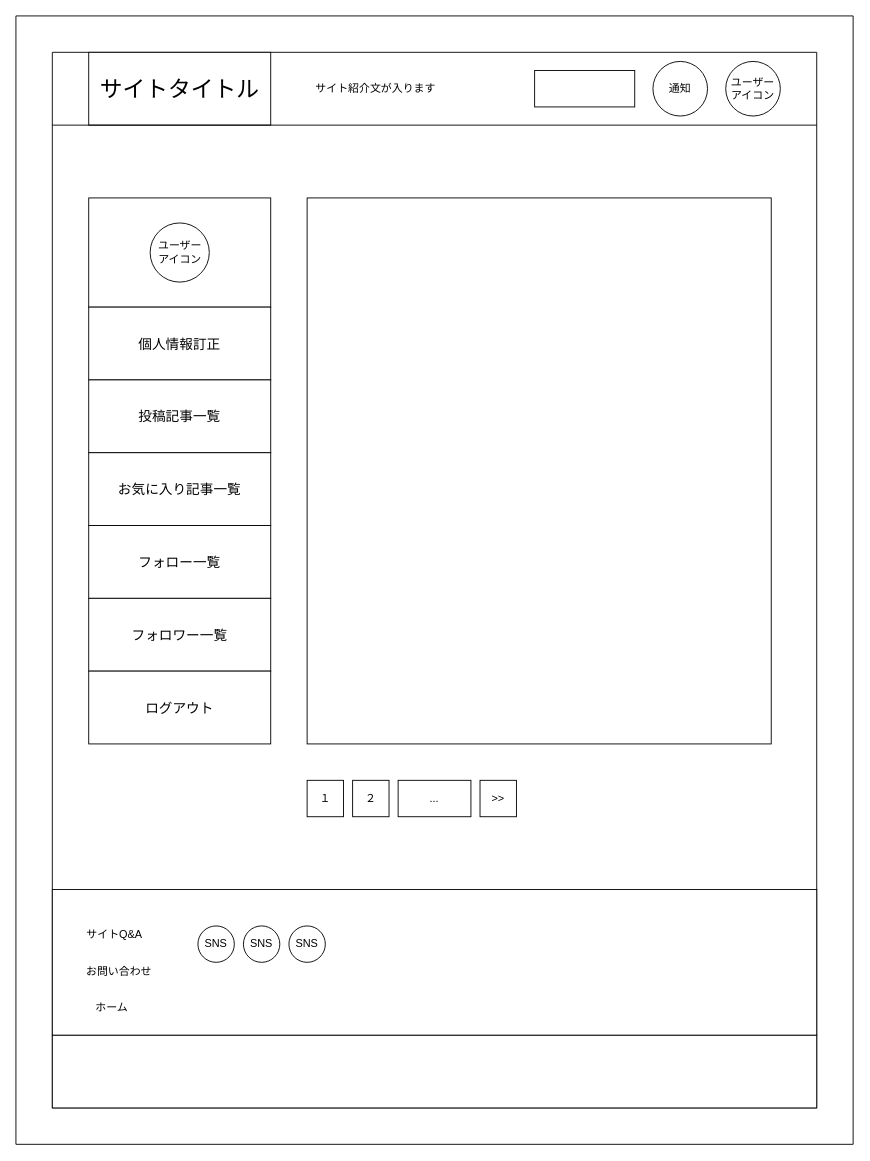
Some shapes in this 870 by 1161 pixel diagram are drawn without their labels. The shapes that lost their labels are listed below. From the top down, each one's centre as x and y in pixels, then its label:
At [584,88]: "新規投稿".
At [538,470]: "一覧表示".
At [434,1071]: "コピーライト".
